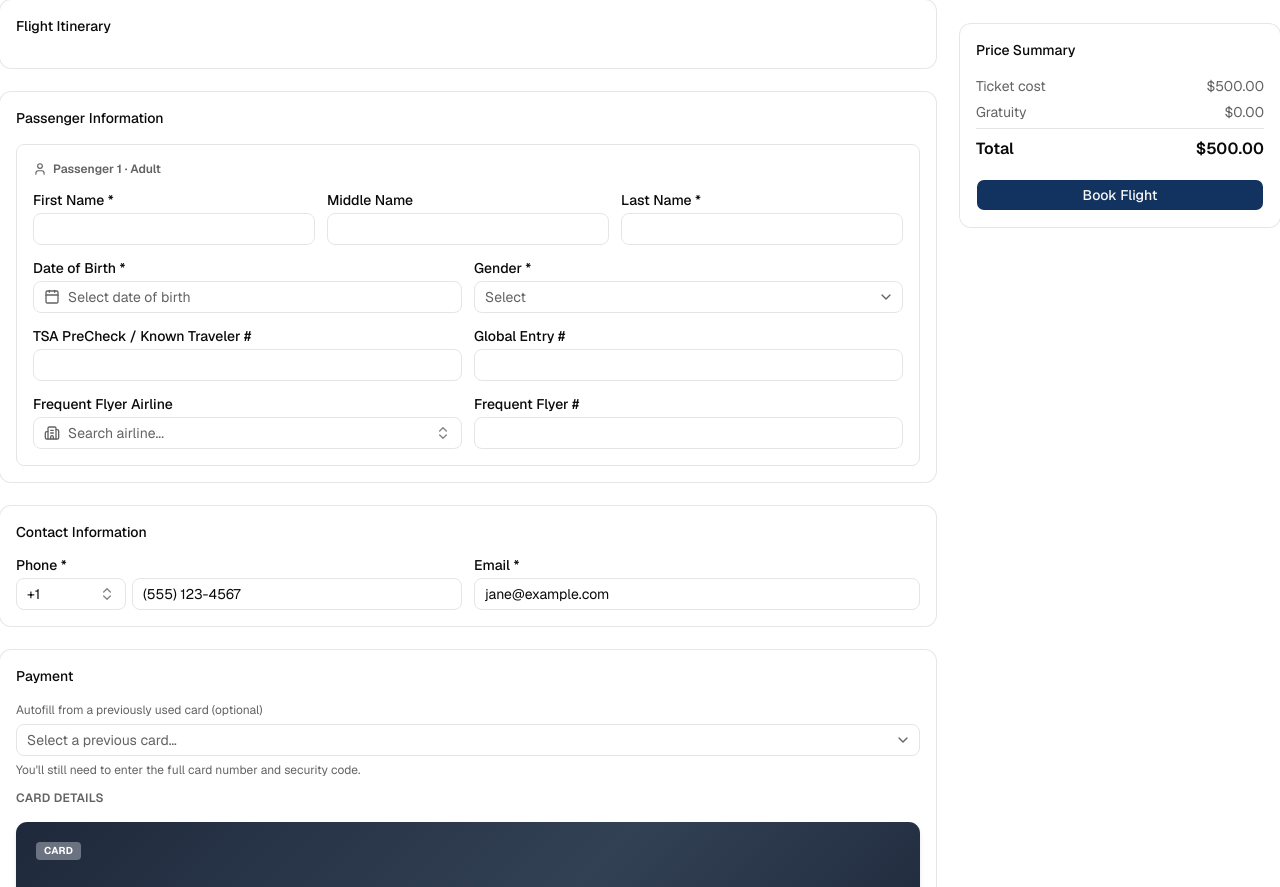
Scenario: BookingFlow — previous card selector (Pass 25) — masked-only, never the card number/CVV › offers the card only in masked form — brand, last4, cardholder, expiry — never the full number
The image size is (1280, 887).
What coordinates should you click on to do the following:
click the dropdown named "autofill from a previously used card"
I would click on:
 (102, 740)
Its box is [16,724,920,756].
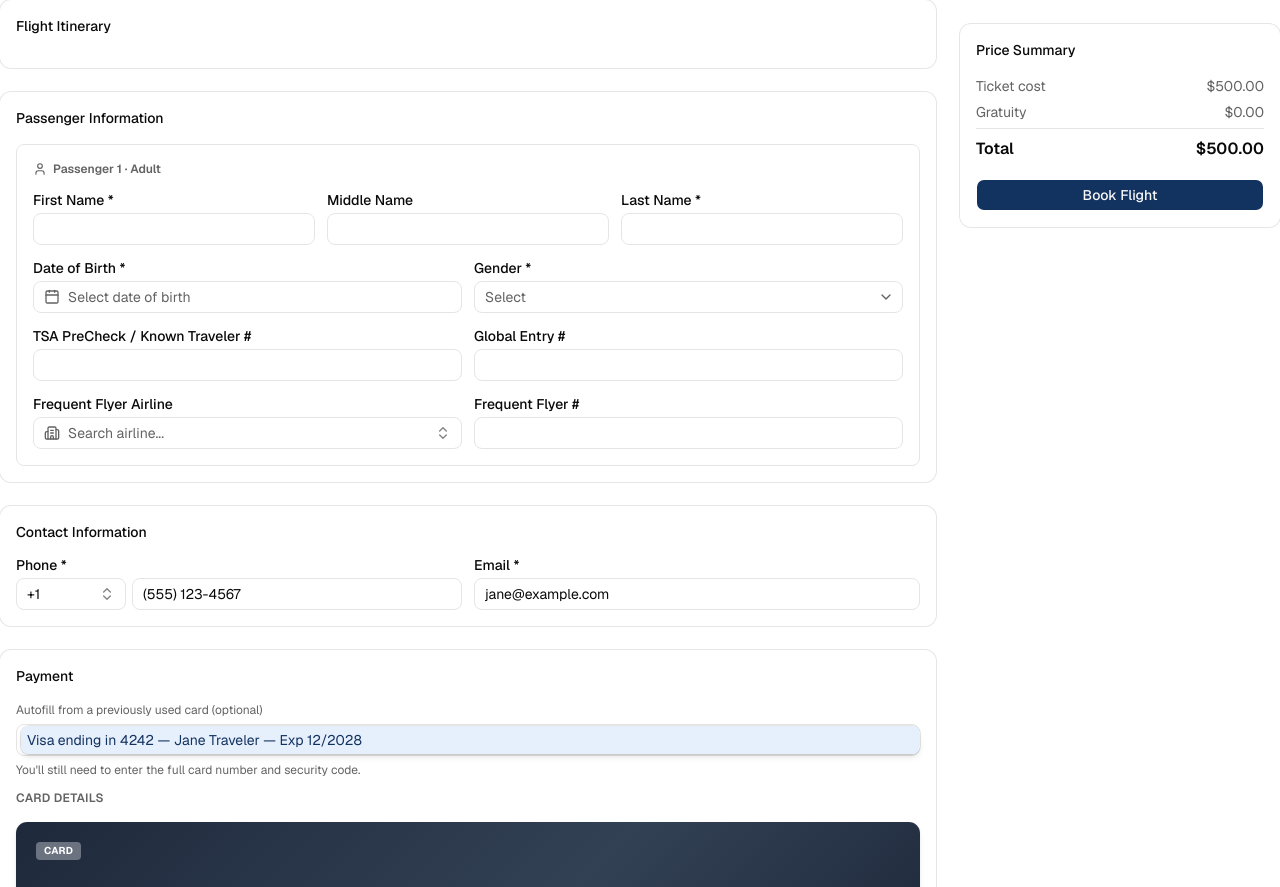
Expected: the option "Visa ending in 4242 — Jane Traveler — Exp 12/2028" is shown, [21,726,920,754]
